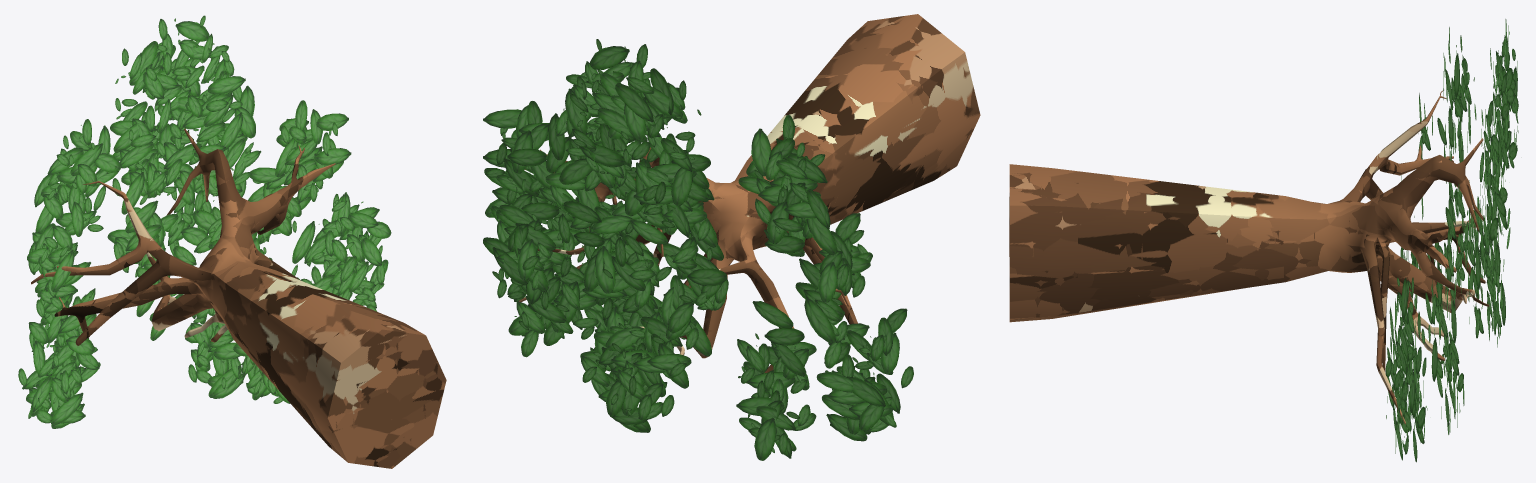
Rendered from PRP_tree_lowPoly_V05.fbx.
3 views of the same model, side by side, from view 1: azimuth 30°, elevation 25°; view 2: azimuth 150°, elevation 25°; view 3: azimuth 270°, elevation 25° (orthographic). The views are drawn at different scales.
Visible parts, largest first — view 1: PRP_tree_lowPoly_geo; view 2: PRP_tree_lowPoly_geo; view 3: PRP_tree_lowPoly_geo.
Boxes of the visible parts, box(x1,y1,x2,y2) form: PRP_tree_lowPoly_geo: box(18, 15, 446, 468); PRP_tree_lowPoly_geo: box(483, 14, 980, 460); PRP_tree_lowPoly_geo: box(1009, 19, 1518, 462).
Size of the model in its own units: 2 by 1.89 by 2.14.
